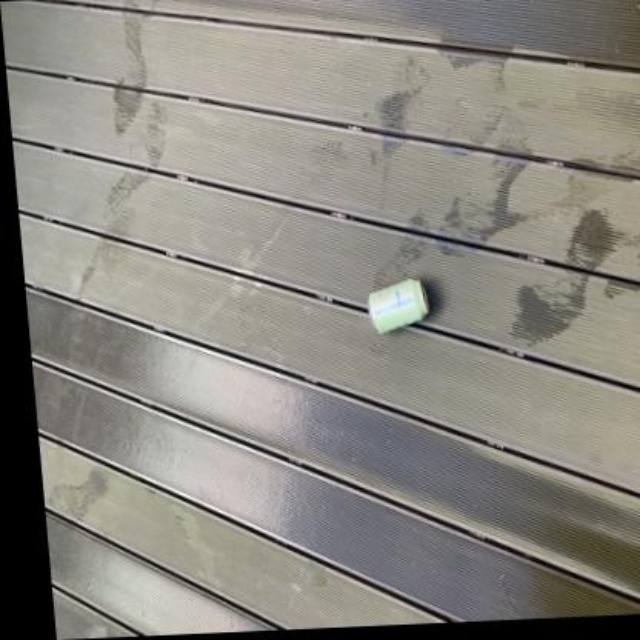trash: (369, 278, 428, 332)
